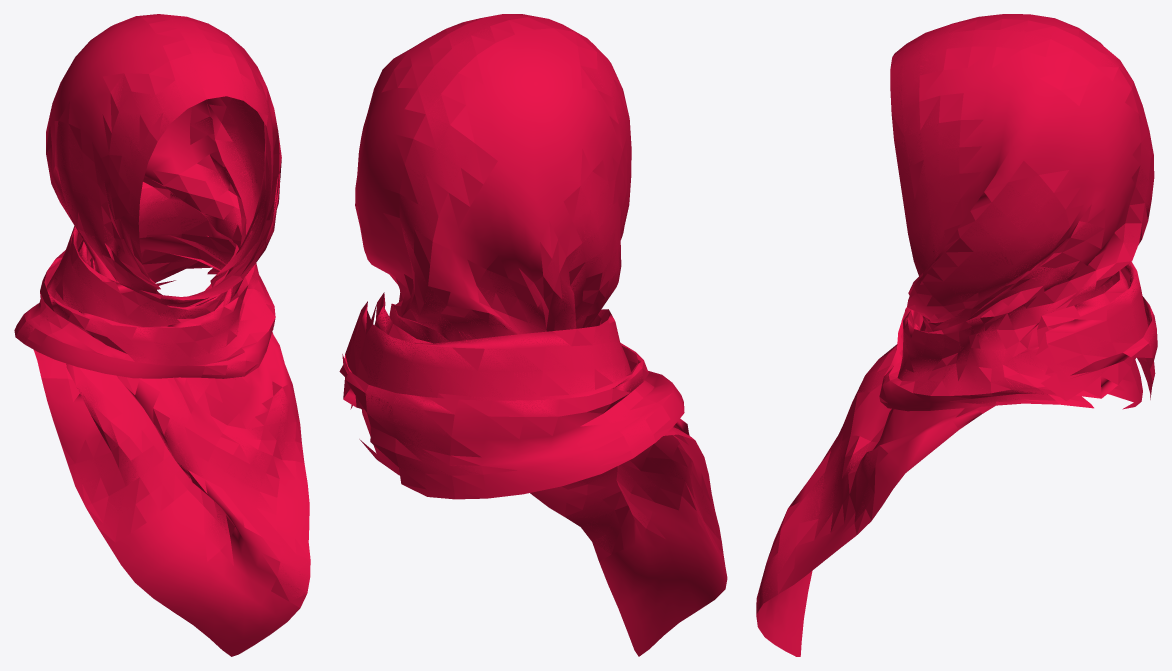
The model's file is shawl4.glb.
3 renders of one model, left to right at view 1: azimuth 30°, elevation 25°; view 2: azimuth 150°, elevation 25°; view 3: azimuth 270°, elevation 25°, orthographic. The views are drawn at different scales.
Visible parts, largest first — view 1: Object_2; view 2: Object_2; view 3: Object_2.
Part boxes in pixels (box(x1,y1,x2,y2)): Object_2: box(14, 14, 310, 656); Object_2: box(339, 14, 727, 656); Object_2: box(756, 14, 1157, 656).
Size of the model in its own units: 2.6 by 5.71 by 3.22.
